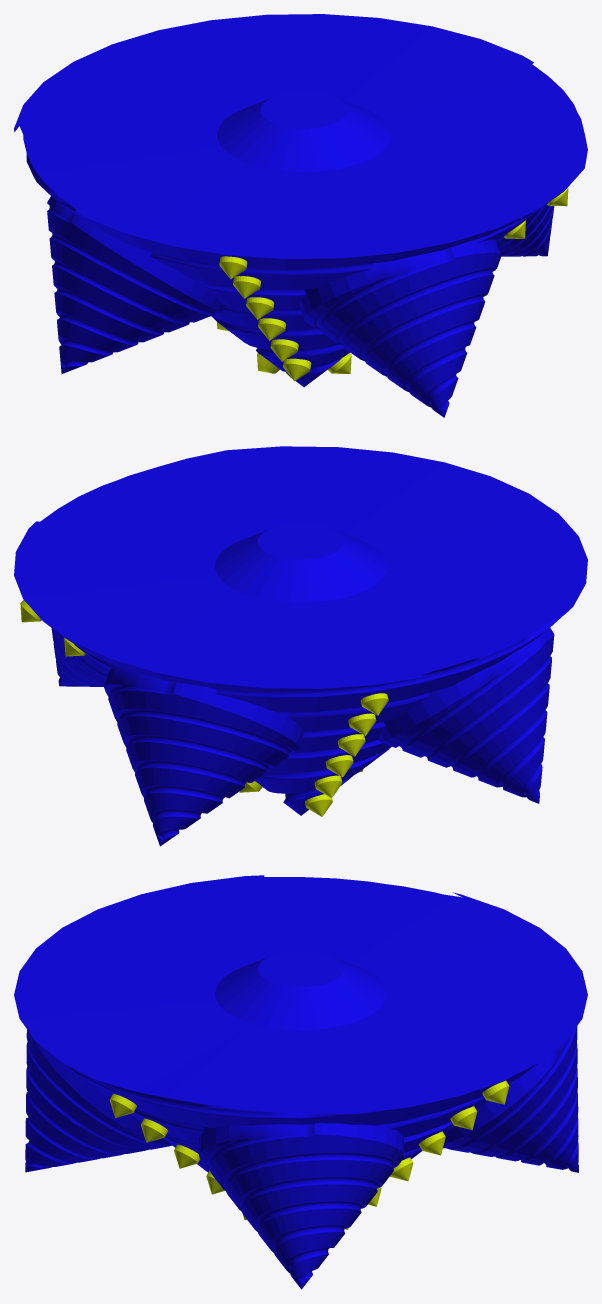
The model's file is big drill head lvl 3.fbx.
3 views of the same model, one above another, from view 1: azimuth 30°, elevation 25°; view 2: azimuth 150°, elevation 25°; view 3: azimuth 270°, elevation 25° (orthographic).
Visible parts, largest first — view 1: drill head; view 2: drill head; view 3: drill head.
Boxes of the visible parts, x1,y1,x2,y2 form: drill head: [14, 14, 587, 417]; drill head: [14, 446, 587, 846]; drill head: [14, 875, 587, 1289].
Size of the model in its own units: 415 by 221 by 420.
